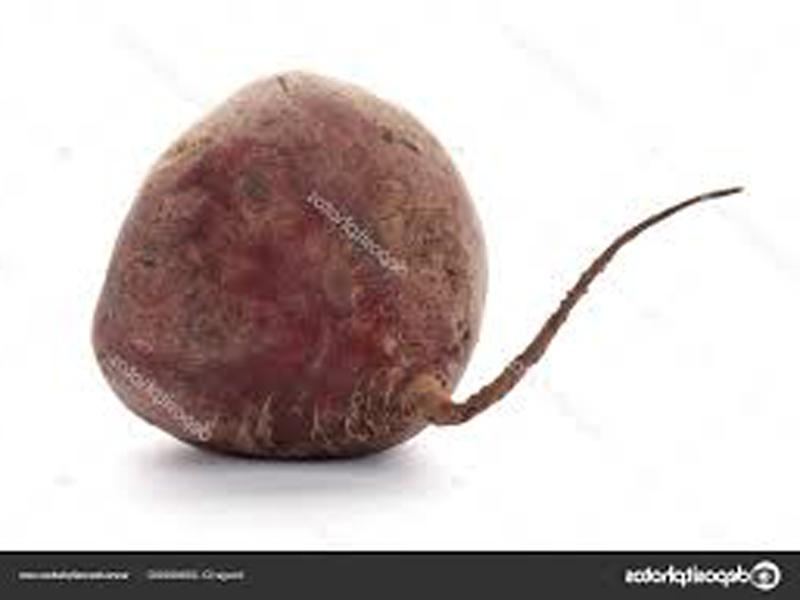Beet: (92, 77, 740, 459)
